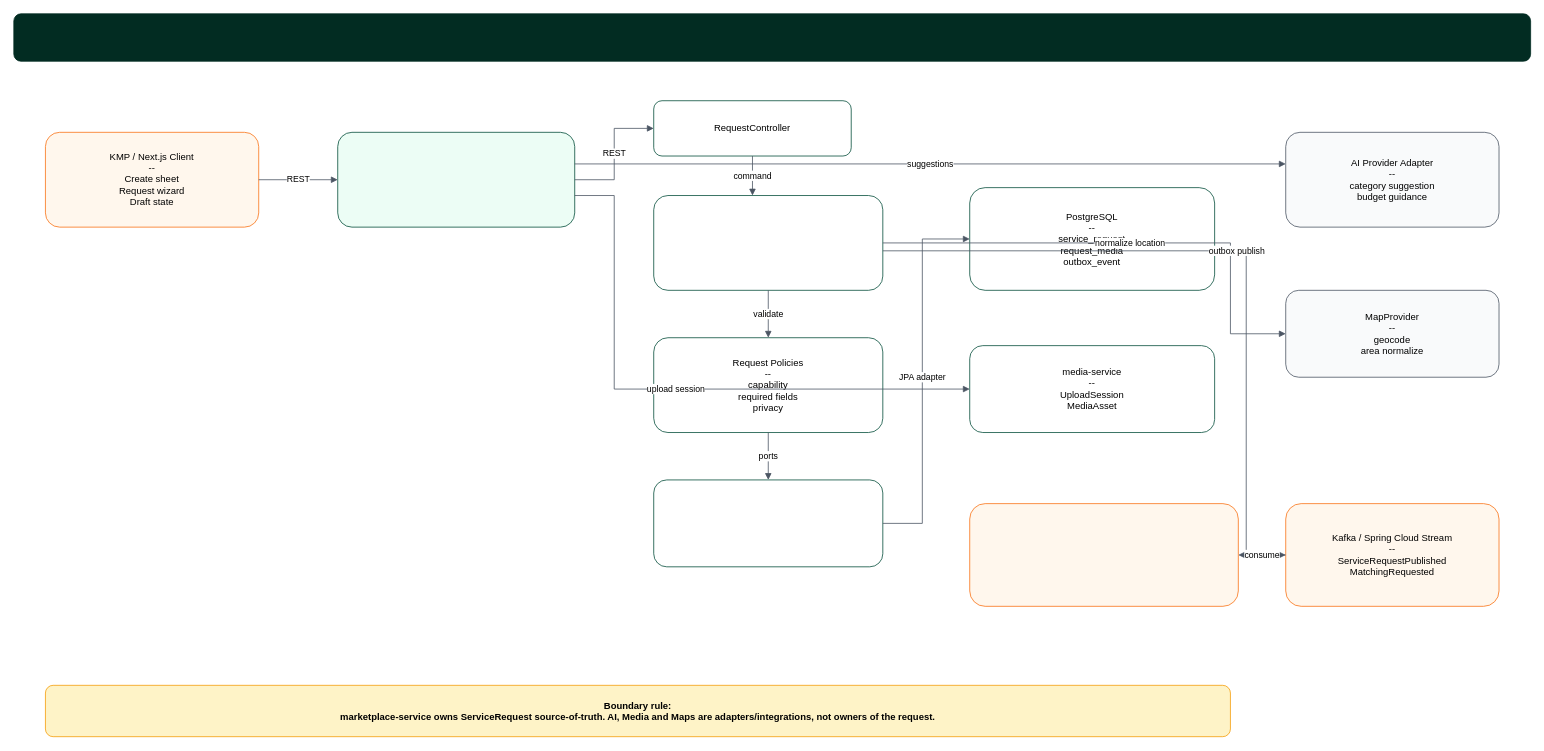
Image size: 1544x751. Some labels were removed from this diagram. Here are the shapes that lost their labels. From the top down, the centre of each, then its label:
At point 772,37: "Viaverse Request Creation — Component Diagram".
At point 456,179: "API Gateway / App BFF -- Request API AI facade Media facade".
At point 768,242: "Request Use Cases -- CreateDraft UpdateDraft PublishRequest".
At point 768,523: "RequestRepositoryPort CategoryPort OutboxPort".
At point 1103,554: "search/matching consumers -- OpenSearch projection Worker opportunity queue".
